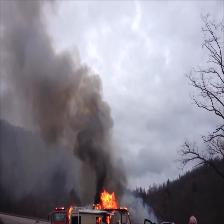fire: (101, 191, 118, 209)
smoke: (50, 59, 93, 157), (10, 1, 49, 100), (94, 108, 115, 190)
